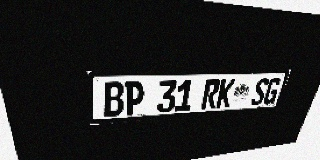1: (174, 80, 195, 112)
3: (157, 80, 177, 113)
B: (103, 81, 124, 117)
G: (262, 78, 282, 105)
K: (215, 79, 236, 108)
P: (124, 81, 145, 115)
R: (201, 79, 221, 109)
S: (250, 78, 270, 106)
